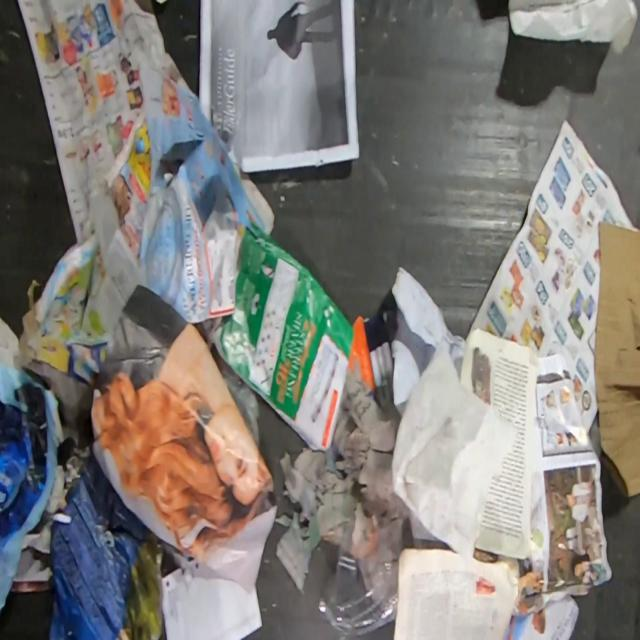cardboard: (211, 222, 353, 450), (49, 446, 195, 640), (594, 221, 640, 501), (342, 304, 399, 412), (22, 306, 40, 360)
rigid_plastic: (314, 506, 398, 639)
